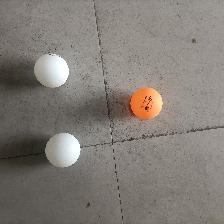WhiteBall: (44, 131, 80, 167), (33, 53, 68, 87)
YellowBall: (130, 87, 162, 119)
